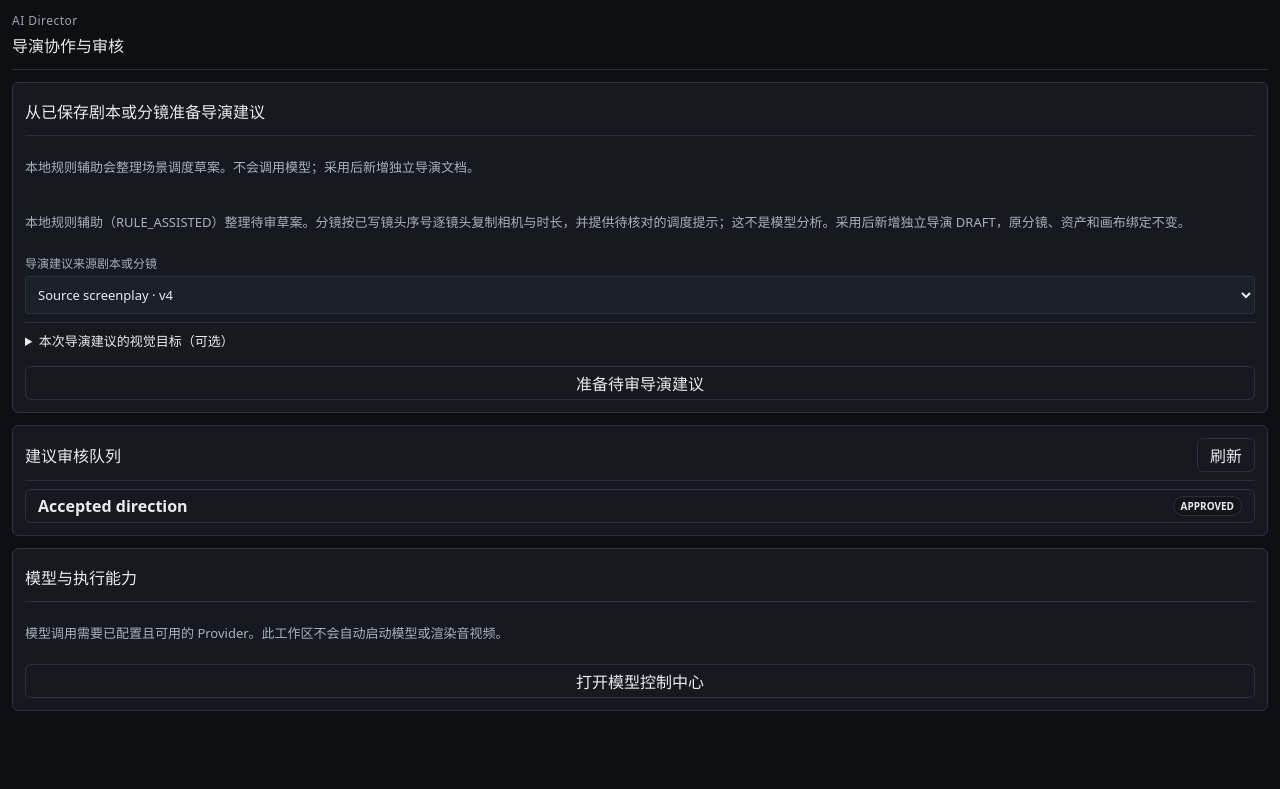
it: original director proposal linked-draft reopen › rejects a mismatched original draft {"id":"different"}
Click the button "Accepted direction APPROVED": [113, 506] box [25, 489, 1255, 523]
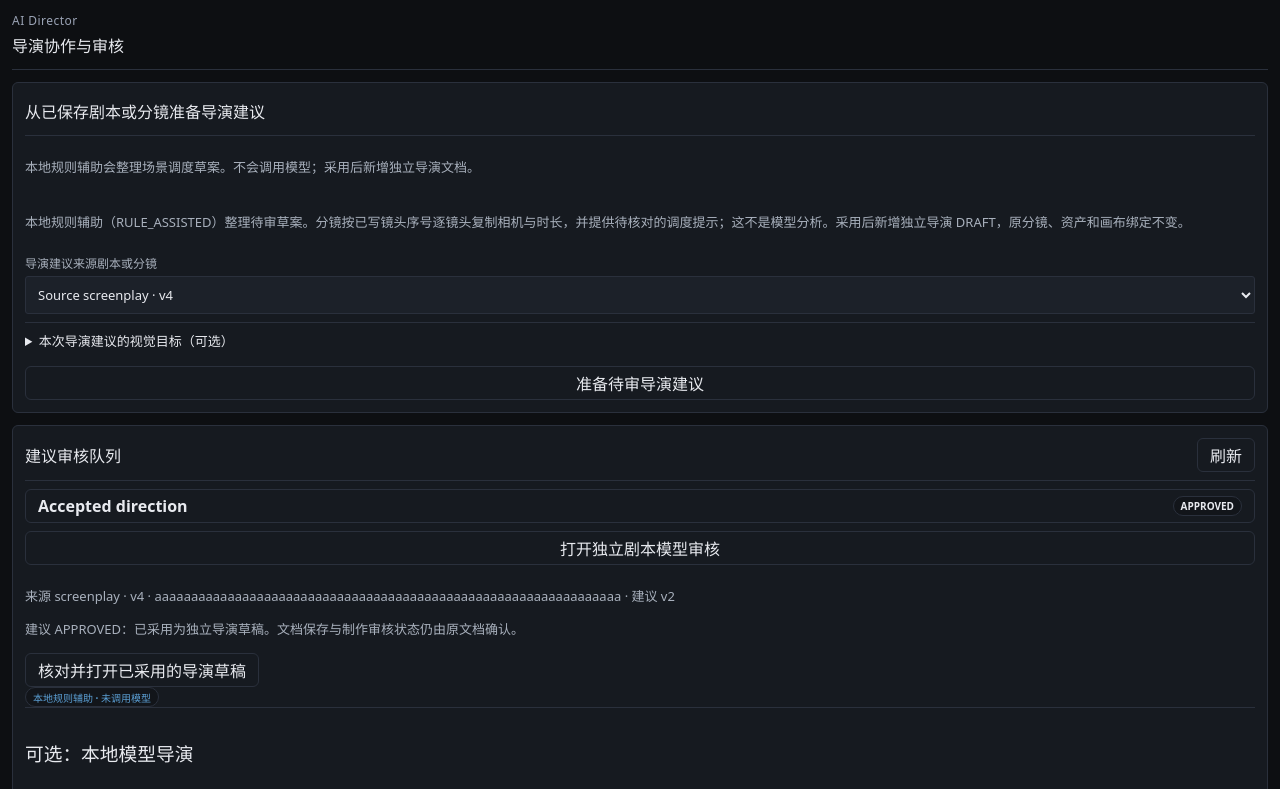
Click the button "核对并打开已采用的导演草稿": [142, 670] box [25, 653, 259, 687]
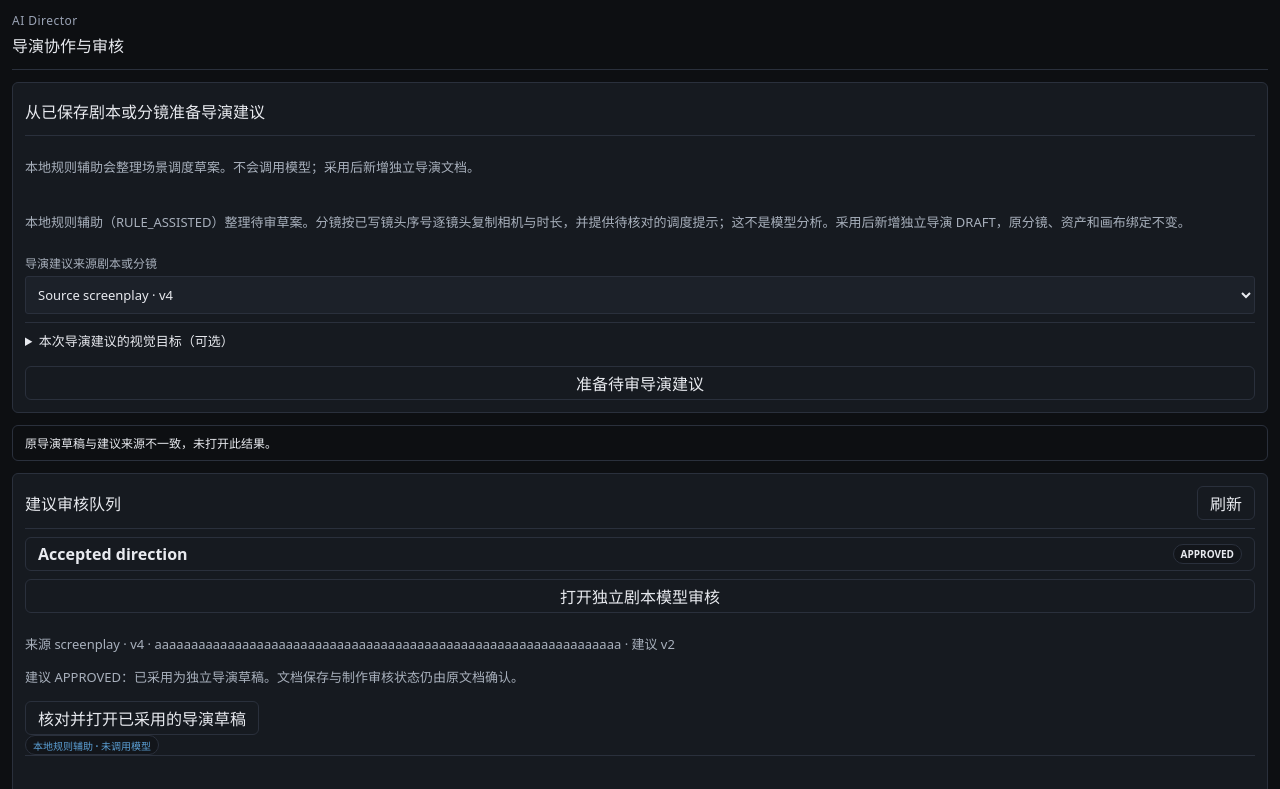
Expected: the text "原导演草稿与建议来源不一致，未打开此结果。" is shown, [12, 425, 1268, 461]
